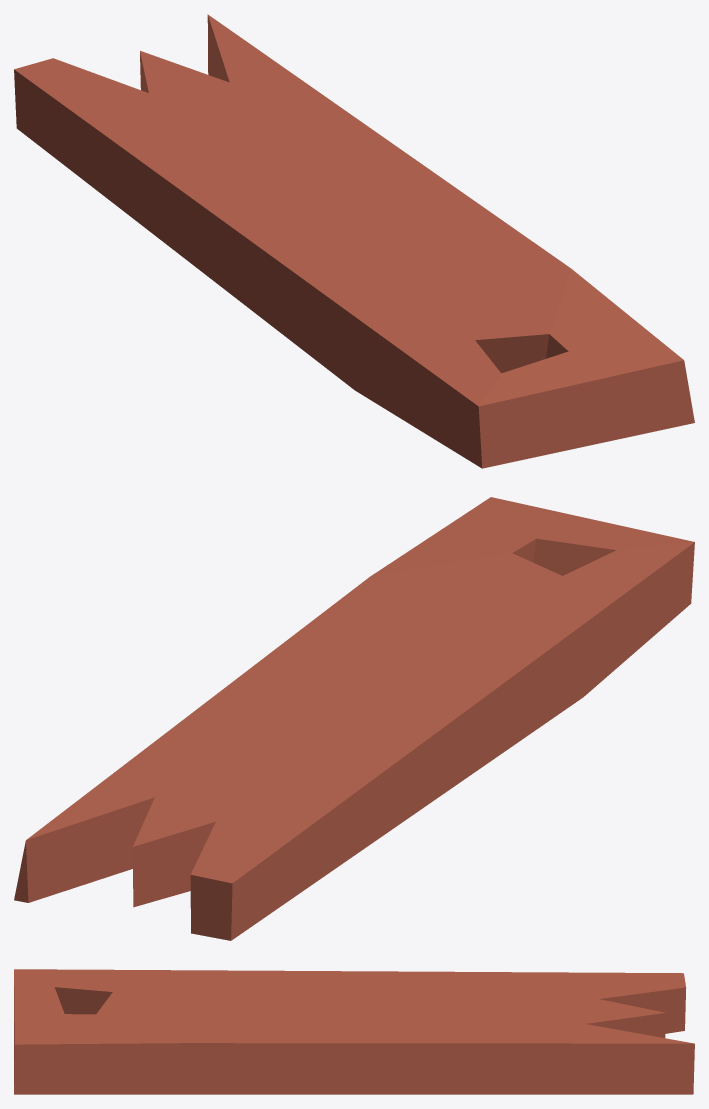
Rendered from woodboard_4b.fbx.
3 renders of one model, top to bottom at view 1: azimuth 30°, elevation 25°; view 2: azimuth 150°, elevation 25°; view 3: azimuth 270°, elevation 25°, orthographic. The views are drawn at different scales.
Parts seen in each view (by area): view 1: woodboard_4b; view 2: woodboard_4b; view 3: woodboard_4b.
Boxes of the visible parts, left/top/right/bottom form: woodboard_4b: left=14, top=14, right=694, bottom=468; woodboard_4b: left=14, top=497, right=694, bottom=940; woodboard_4b: left=14, top=969, right=694, bottom=1094.
Size of the model in its own units: 55.3 by 16.49 by 205.
